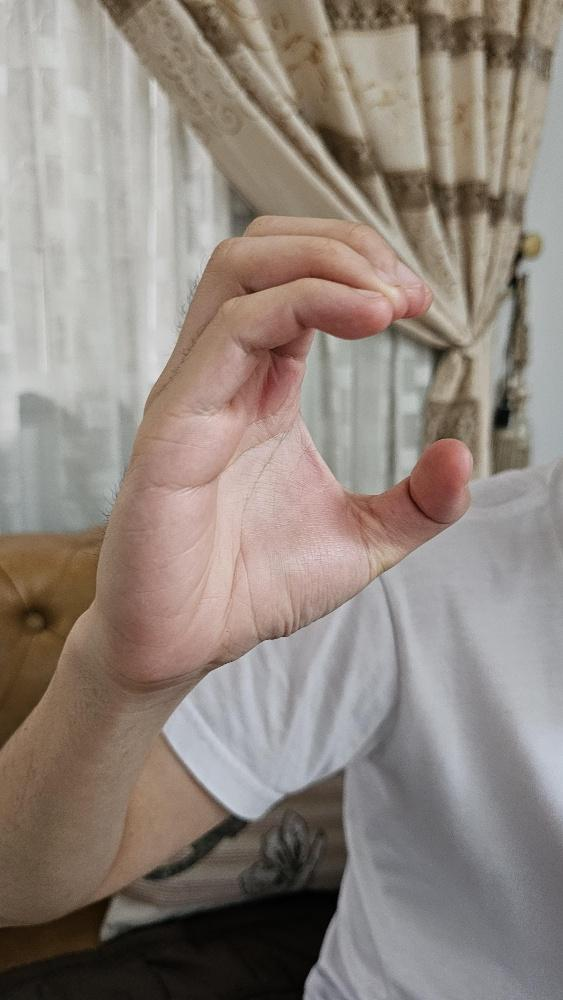c: (99, 211, 474, 675)
